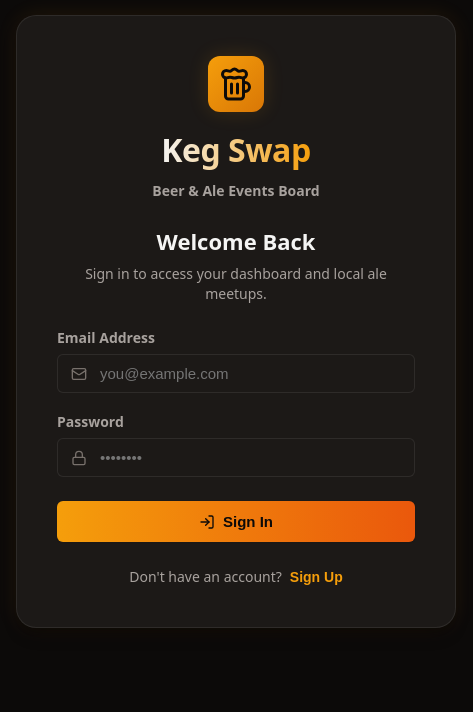
AuthScreen › switches between sign in and register modes
This screenshot has width=473, height=712.
Click the button "Sign Up". click: click(316, 577)
box: 290,569 -> 343,585
(page scrolled)
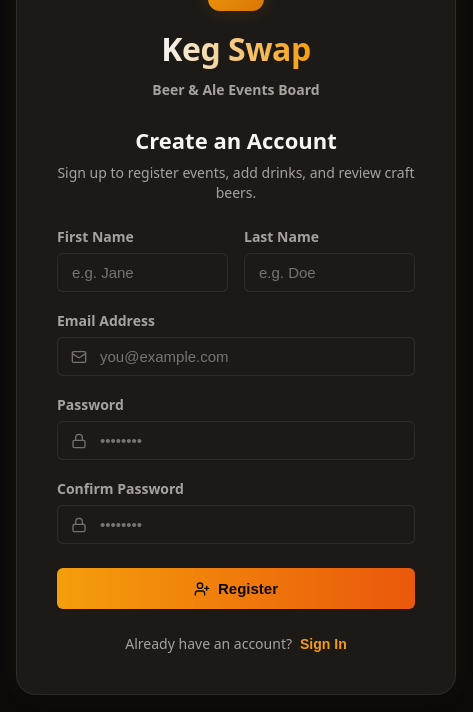
expect the heading "Create an Account" is shown: met, box 135,125 -> 337,155
expect the field labelled "First Name" is shown: met, box 57,253 -> 228,292
expect the field labelled "Last Name" is shown: met, box 244,253 -> 415,292
Click the button "Sign In". click: click(323, 644)
box: 300,636 -> 347,652
(page scrolled)
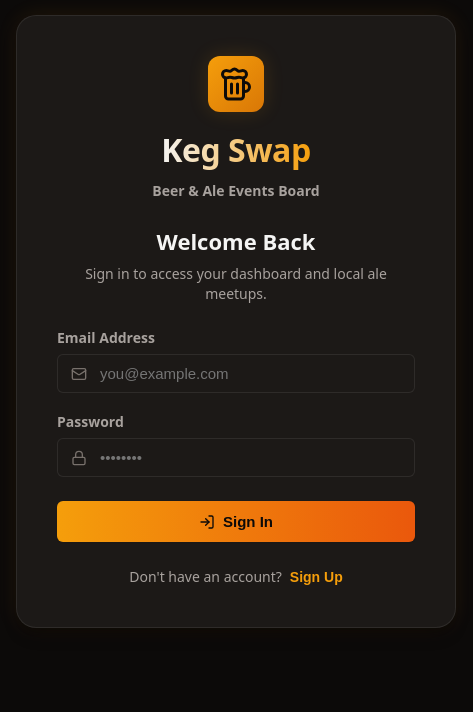
expect the heading "Welcome Back" is shown: met, box 157,226 -> 315,256
